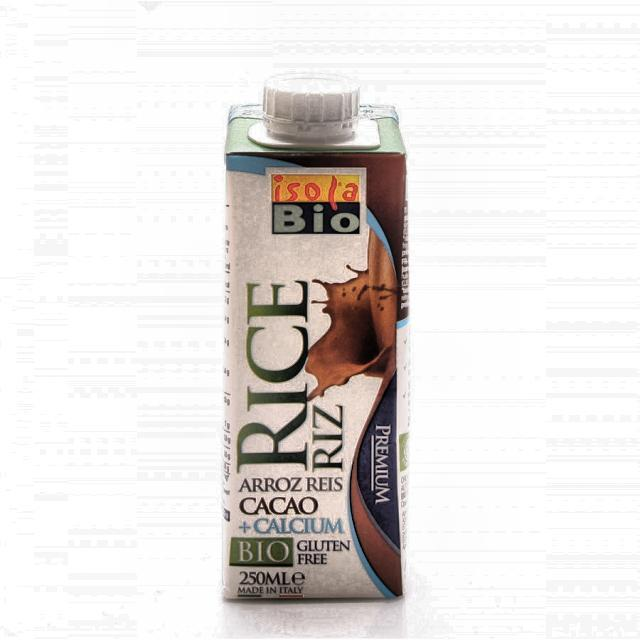cardboard: (220, 92, 409, 600)
